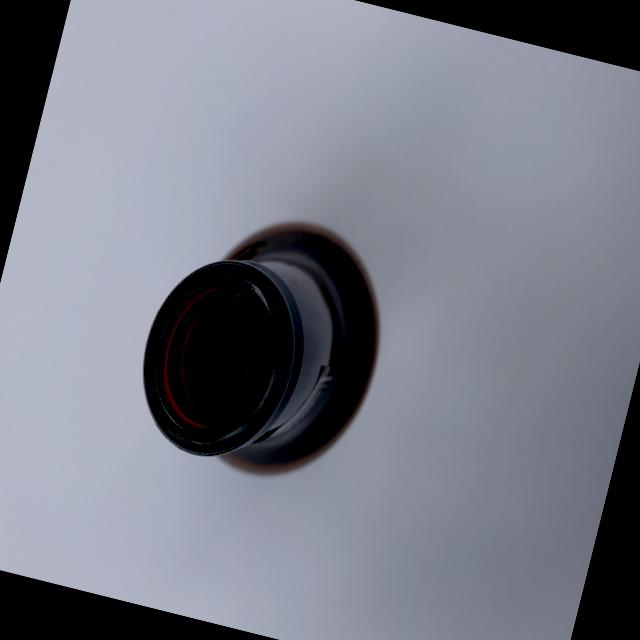Glass: (97, 166, 428, 528)
